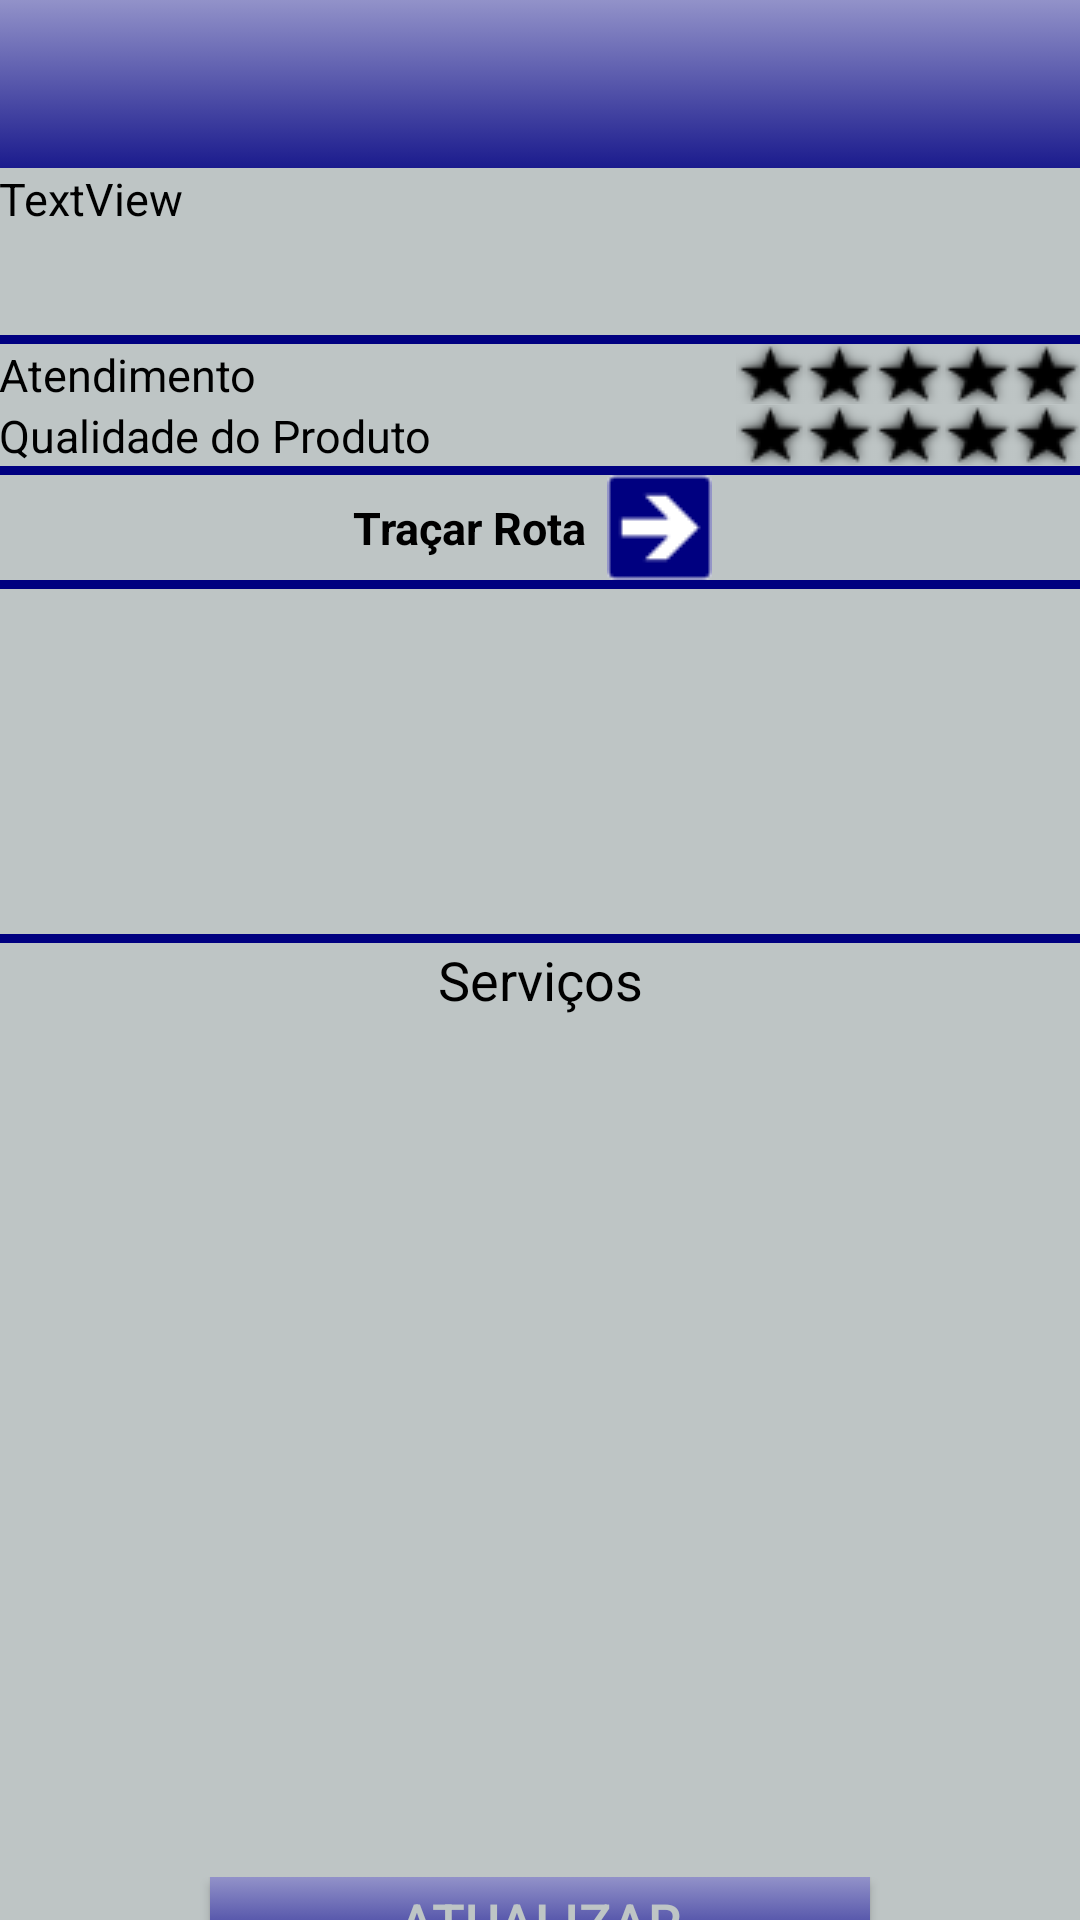

Where to tap for icons on this 1080 x 1920 app screen, as [x,y]:
seta tracar rota: [659,527]
